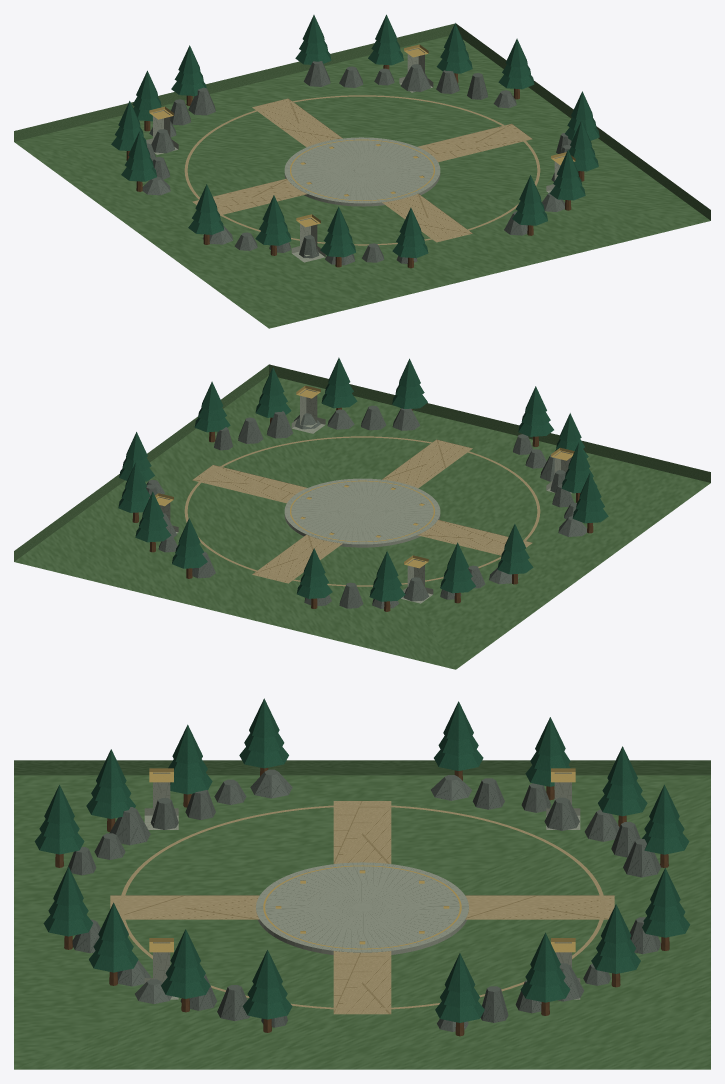
The model's file is forest_courtyard.glb.
The picture shows the model from 3 angles, top to bottom: view 1: azimuth 30°, elevation 25°; view 2: azimuth 150°, elevation 25°; view 3: azimuth 270°, elevation 25°; orthographic projection. The views are drawn at different scales.
Parts seen in each view (by area): view 1: Terrain, TreeCanopies, Courtyard, Rocks, Paths, Ruins, BoundaryInlay, TreeTrunks; view 2: Terrain, TreeCanopies, Courtyard, Rocks, Paths, Ruins, BoundaryInlay, TreeTrunks; view 3: Terrain, TreeCanopies, Rocks, Courtyard, Paths, Ruins, BoundaryInlay, TreeTrunks, GoldInlay.
Part boxes in pixels (x1,y1,x2,y2): Terrain: (14,23,710,328); TreeCanopies: (111,14,599,258); Courtyard: (284,137,440,206); Rocks: (142,61,583,265); Paths: (192,98,532,242); Ruins: (146,44,575,262); BoundaryInlay: (184,95,540,245); TreeTrunks: (126,65,584,268); Terrain: (14,364,710,669); TreeCanopies: (118,357,608,601); Courtyard: (284,478,440,547); Rocks: (146,405,586,608); Paths: (192,439,532,583); Ruins: (155,385,574,603); BoundaryInlay: (184,436,540,586); TreeTrunks: (132,407,593,611); Terrain: (14,760,710,1069); TreeCanopies: (34,698,690,1022); Rocks: (67,769,660,1031); Courtyard: (256,862,468,954); Paths: (110,801,614,1014); Ruins: (144,768,580,999); BoundaryInlay: (119,804,605,1009); TreeTrunks: (55,767,669,1036); GoldInlay: (263,865,461,949).
Bounding box in the file's own units: 34 × 5.2 × 34.
Materials: 1 (1 with a texture image).
